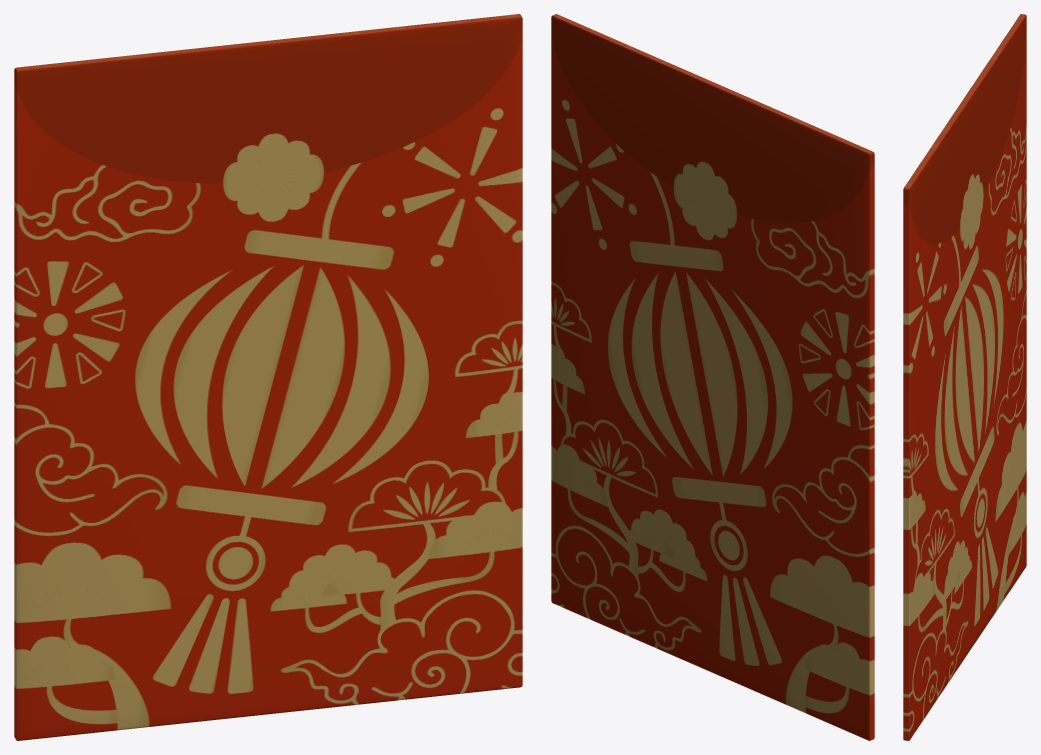
The model's file is lixi_red.glb.
3 views of the same model, side by side, from view 1: azimuth 30°, elevation 25°; view 2: azimuth 150°, elevation 25°; view 3: azimuth 270°, elevation 25° (orthographic). The views are drawn at different scales.
Visible parts, largest first — view 1: Envelope; view 2: Envelope; view 3: Envelope.
Boxes of the visible parts, box(x1,y1,x2,y2) form: Envelope: box(14, 14, 522, 740); Envelope: box(551, 14, 874, 740); Envelope: box(903, 14, 1026, 740).
Bounding box in the file's own units: 2.32 × 3.4 × 0.6867.
Materials: 1 (1 with a texture image).
